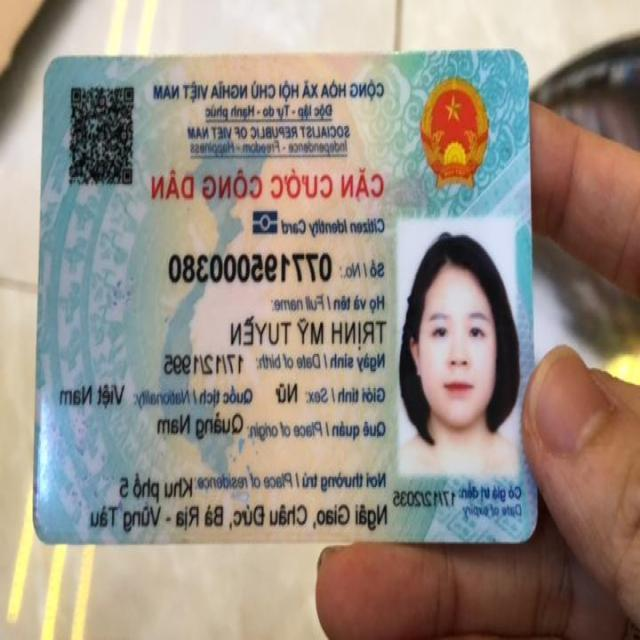bottom_left: (500, 506, 550, 558)
bottom_right: (22, 508, 64, 556)
image_person: (394, 218, 522, 477)
top_left: (496, 38, 546, 90)
top_right: (36, 46, 78, 88)
